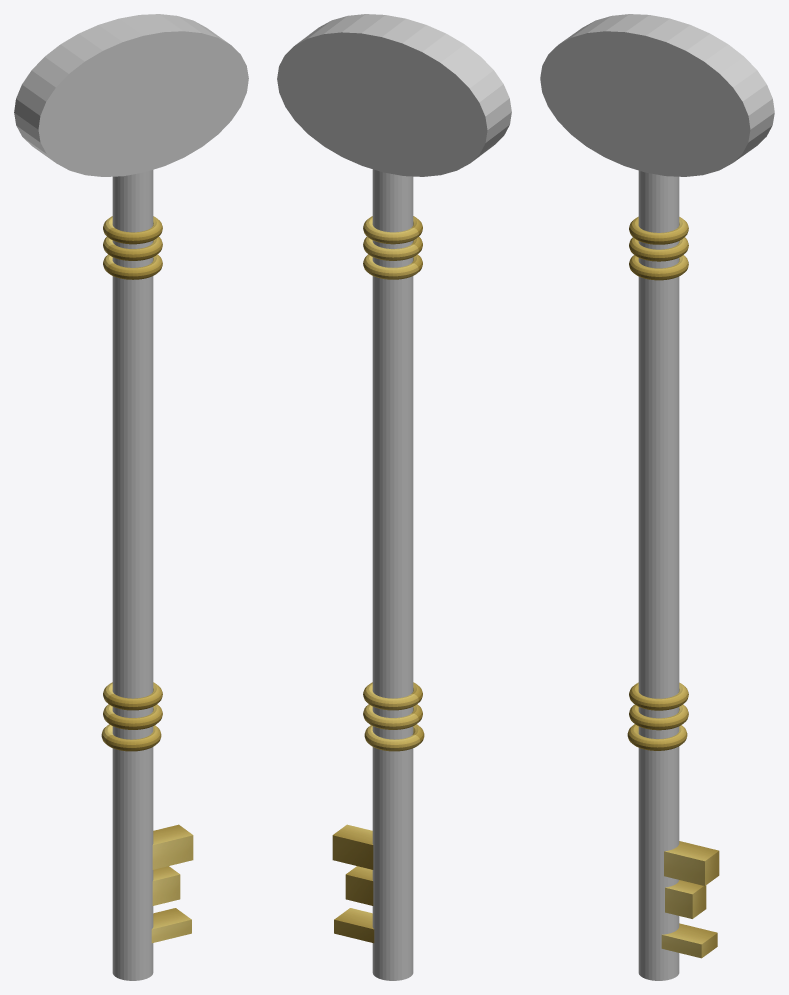
Rendered from Llave.fbx.
The picture shows the model from 3 angles, left to right: view 1: azimuth 30°, elevation 25°; view 2: azimuth 150°, elevation 25°; view 3: azimuth 330°, elevation 25°; orthographic projection.
Parts seen in each view (by area): view 1: Cylinder, Cylinder.001, Cube, Cube.002, Cube.001, Torus.006, Torus.002, Torus.004, Torus.005, Torus.001, Torus; view 2: Cylinder, Cylinder.001, Cube, Cube.002, Cube.001, Torus.006, Torus.002, Torus.004, Torus.001, Torus.005, Torus; view 3: Cylinder, Cylinder.001, Cube, Cube.002, Cube.001, Torus.006, Torus.002, Torus.004, Torus.001, Torus.005, Torus.
Boxes of the visible parts, x1,y1,x2,y2 form: Cylinder: (112, 170, 153, 980); Cylinder.001: (14, 14, 248, 176); Cube: (152, 824, 193, 869); Cube.002: (151, 908, 191, 943); Cube.001: (152, 866, 180, 905); Torus.006: (103, 682, 162, 710); Torus.002: (103, 216, 162, 244); Torus.004: (101, 724, 161, 751); Torus.005: (103, 704, 162, 729); Torus.001: (103, 254, 162, 279); Torus: (103, 236, 162, 260); Cylinder: (372, 169, 413, 980); Cylinder.001: (277, 14, 511, 176); Cube: (332, 824, 373, 869); Cube.002: (334, 908, 374, 943); Cube.001: (345, 866, 373, 905); Torus.006: (363, 682, 422, 710); Torus.002: (363, 216, 422, 244); Torus.004: (364, 724, 424, 751); Torus.001: (363, 254, 422, 279); Torus.005: (363, 704, 422, 729); Torus: (363, 236, 422, 260); Cylinder: (638, 170, 679, 980); Cylinder.001: (540, 14, 774, 176); Cube: (664, 841, 719, 885); Cube.002: (661, 923, 717, 958); Cube.001: (665, 880, 706, 918); Torus.006: (629, 682, 688, 710); Torus.002: (629, 216, 688, 244); Torus.004: (627, 724, 687, 750); Torus.001: (629, 255, 688, 280); Torus.005: (629, 704, 688, 730); Torus: (629, 237, 688, 261).
Size of the model in its own units: 38.58 by 166 by 9.52.
